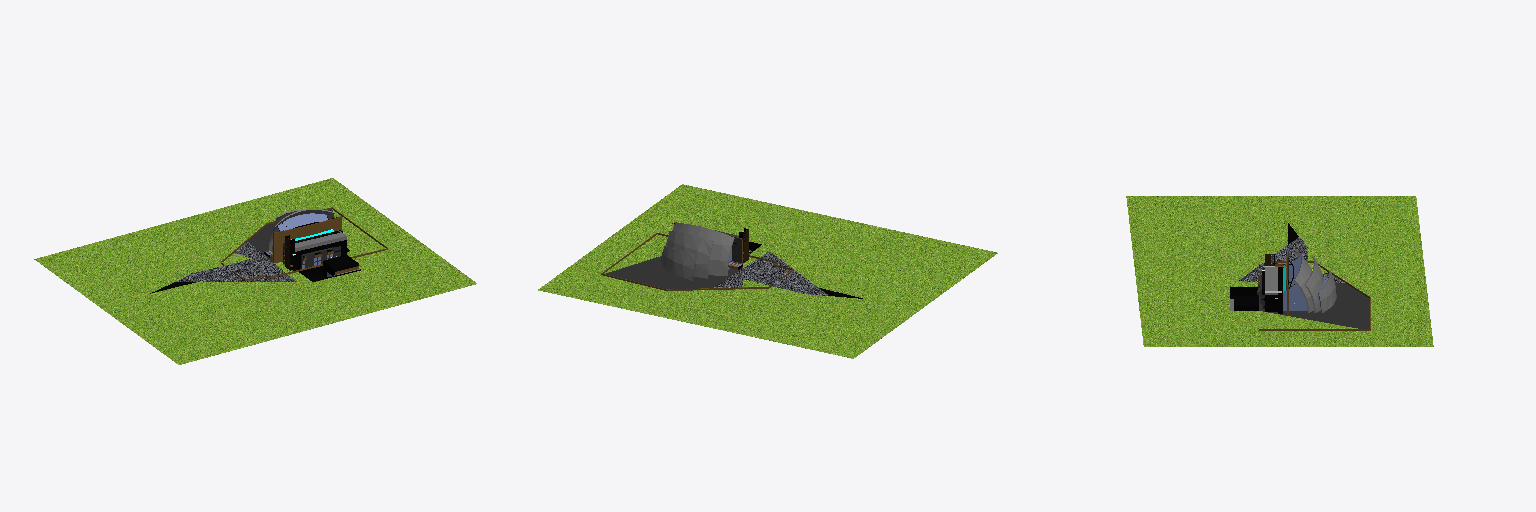
The picture shows the model from 3 angles: view 1: azimuth 30°, elevation 25°; view 2: azimuth 150°, elevation 25°; view 3: azimuth 270°, elevation 25°; orthographic projection.
Visible parts, largest first — view 1: Mesh385, Mesh34; view 2: Mesh385, Mesh217, Mesh18, Mesh3, Mesh384; view 3: Mesh385.
Boxes of the visible parts, x1,y1,x2,y2 form: Mesh385: [34, 178, 476, 364]; Mesh34: [273, 216, 341, 262]; Mesh385: [538, 184, 997, 358]; Mesh217: [672, 223, 734, 275]; Mesh18: [666, 231, 713, 278]; Mesh3: [661, 246, 695, 280]; Mesh384: [601, 233, 793, 290]; Mesh385: [1126, 196, 1433, 346].
Bounding box in the file's own units: 3129 × 464 × 2707.
16 materials, 2 textured.